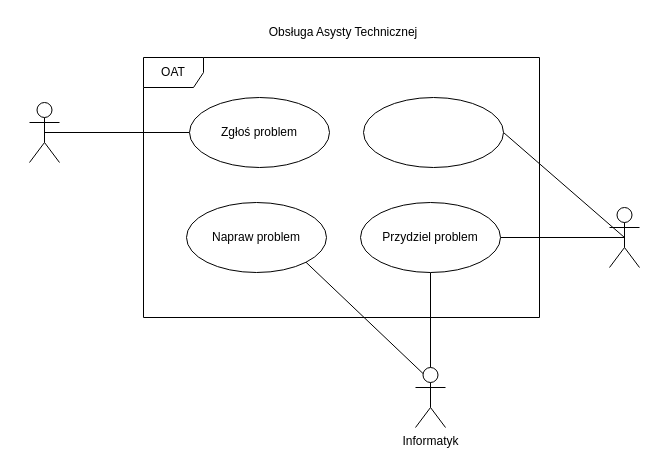
The diagram is 661 pixels wide and 465 high, and some of its shapes have lost their labels. Here are the shapes that lost their labels. From the top down, the box of each, then its label:
(28, 102, 60, 162): Pracownik
(362, 96, 504, 168): Przyjmij problem
(608, 206, 640, 268): Szef DI
